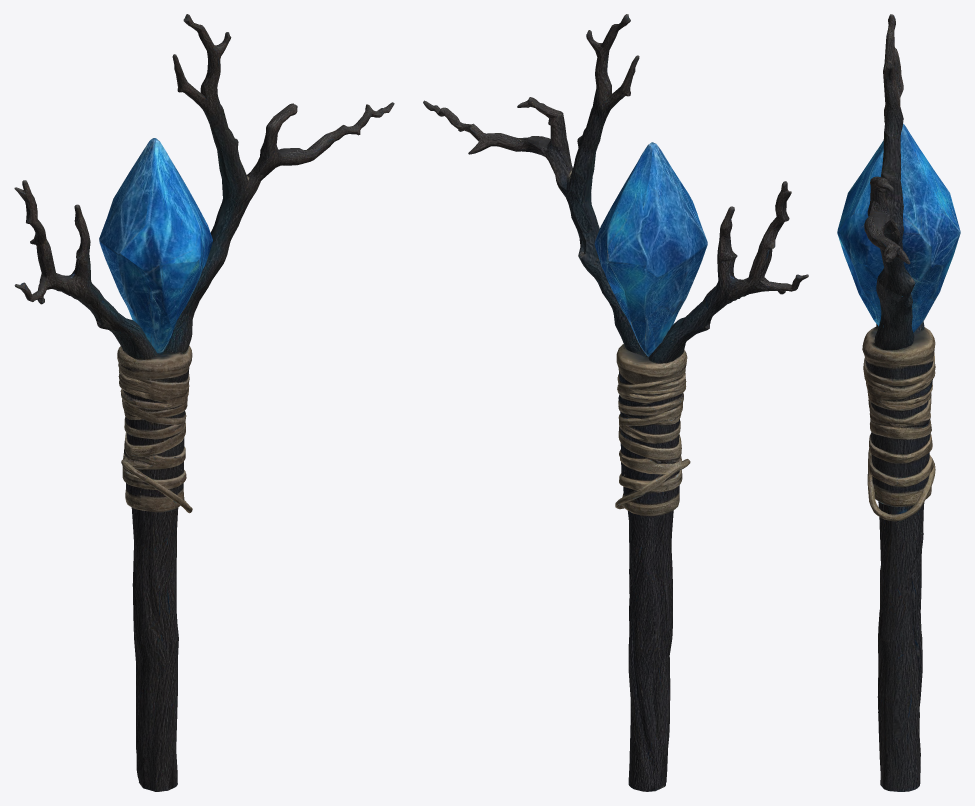
Rendered from mage_staff.fbx.
3 renders of one model, left to right at view 1: azimuth 30°, elevation 25°; view 2: azimuth 150°, elevation 25°; view 3: azimuth 270°, elevation 25°, orthographic. The views are drawn at different scales.
Visible parts, largest first — view 1: mage_staff; view 2: mage_staff; view 3: mage_staff.
Part boxes in pixels (x1,y1,x2,y2): mage_staff: (14,14,394,791); mage_staff: (423,14,808,791); mage_staff: (837,14,960,791).
Bounding box in the file's own units: 2.93 × 5.6 × 0.7992.
Materials: 1 (1 with a texture image).
